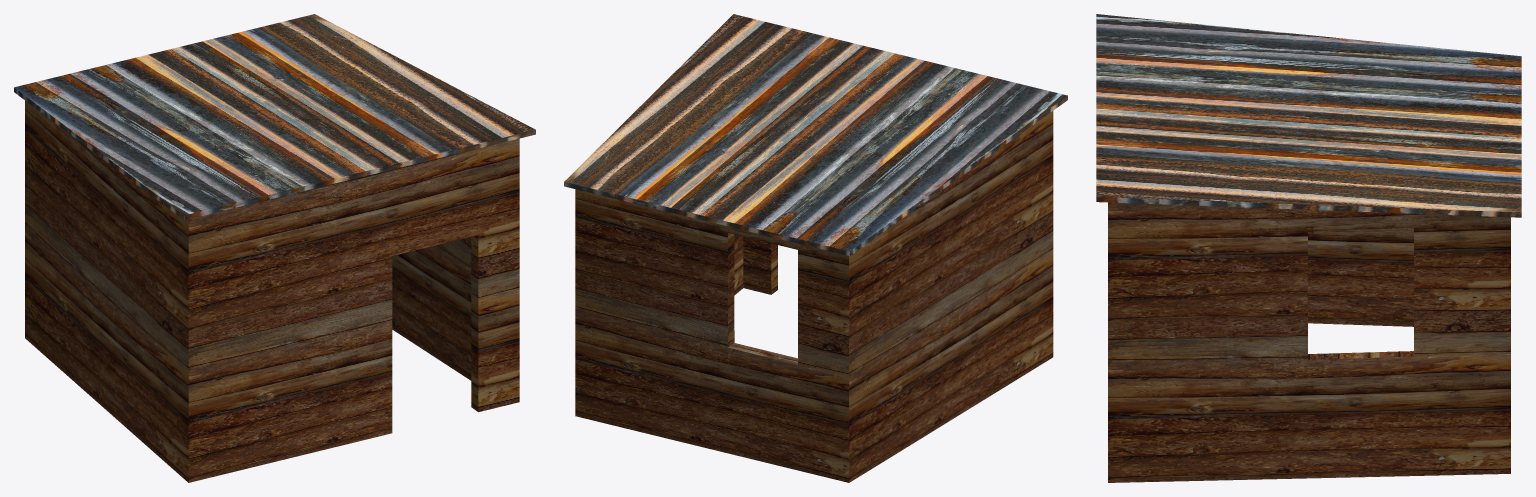
The model's file is Shack.FBX.
The picture shows the model from 3 angles, left to right: view 1: azimuth 30°, elevation 25°; view 2: azimuth 150°, elevation 25°; view 3: azimuth 270°, elevation 25°; orthographic projection. The views are drawn at different scales.
Visible parts, largest first — view 1: Line001, Line003; view 2: Line001, Line003; view 3: Line001, Line003.
Boxes of the visible parts, x1,y1,x2,y2 form: Line001: [25, 100, 519, 482]; Line003: [14, 14, 535, 220]; Line001: [575, 111, 1053, 482]; Line003: [564, 14, 1067, 255]; Line001: [1108, 202, 1510, 482]; Line003: [1096, 14, 1521, 217].
Size of the model in its own units: 162 by 120 by 159.
2 materials, 2 textured.
